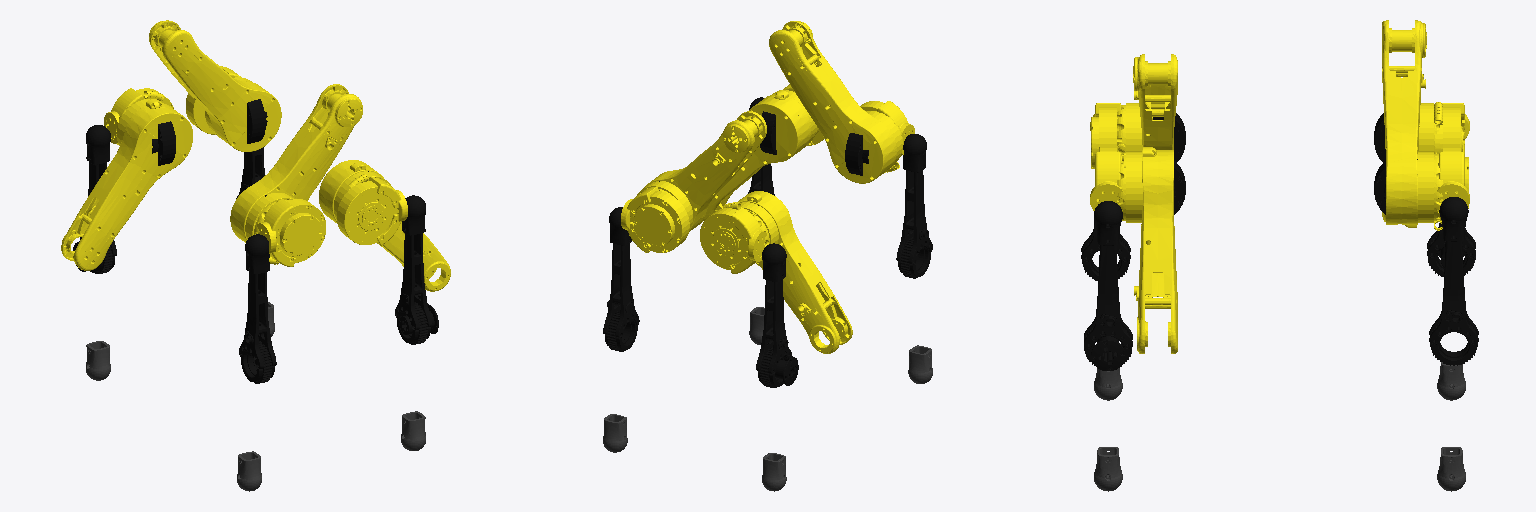
--- Render facts (derived) ---
The picture shows the robot from 3 angles, left to right: view 1: azimuth 30°, elevation 25°; view 2: azimuth 150°, elevation 25°; view 3: azimuth 270°, elevation 25°; orthographic projection.
Model quadruped_robot with 22 links and 21 joints (12 revolute, 9 fixed), rooted at trunk, posed all joints at 0.
Links seen in each view (by area): view 1: right_back_thigh, right_forward_thigh, left_back_thigh, left_forward_calf, right_forward_calf, left_forward_hip, right_forward_hip, left_forward_thigh, right_back_calf, right_back_hip, left_forward_foot, right_back_foot (+5 smaller); view 2: right_forward_thigh, right_back_thigh, left_back_thigh, left_forward_thigh, right_back_calf, right_forward_calf, left_back_hip, right_back_hip, left_back_calf, left_back_foot, right_back_foot, right_forward_foot (+3 smaller); view 3: left_back_thigh, left_forward_thigh, left_forward_calf, right_forward_thigh, left_back_calf, left_back_hip, left_forward_hip, right_back_hip, right_forward_hip, right_back_calf, left_forward_foot, left_back_foot (+4 smaller).
Boxes of the visible links, left/top/right/bottom form: right_back_thigh: left=61, top=91, right=192, bottom=270; right_forward_thigh: left=230, top=84, right=362, bottom=264; left_back_thigh: left=149, top=20, right=281, bottom=151; left_forward_calf: left=395, top=195, right=438, bottom=344; right_forward_calf: left=239, top=234, right=276, bottom=383; left_forward_hip: left=337, top=177, right=407, bottom=245; right_forward_hip: left=257, top=199, right=325, bottom=266; left_forward_thigh: left=319, top=160, right=450, bottom=291; right_back_calf: left=73, top=125, right=116, bottom=273; right_back_hip: left=104, top=88, right=173, bottom=144; left_forward_foot: left=401, top=411, right=425, bottom=450; right_back_foot: left=86, top=341, right=110, bottom=380; right_forward_thigh: left=769, top=21, right=902, bottom=183; right_back_thigh: left=722, top=191, right=852, bottom=353; left_back_thigh: left=637, top=111, right=766, bottom=231; left_forward_thigh: left=702, top=90, right=816, bottom=221; right_back_calf: left=756, top=243, right=798, bottom=387; right_forward_calf: left=896, top=134, right=932, bottom=278; left_back_hip: left=621, top=187, right=689, bottom=252; right_back_hip: left=700, top=208, right=766, bottom=273; left_back_calf: left=603, top=207, right=639, bottom=351; left_back_foot: left=603, top=414, right=627, bottom=452; right_back_foot: left=762, top=453, right=786, bottom=491; right_forward_foot: left=908, top=345, right=932, bottom=383; left_back_thigh: left=1382, top=20, right=1442, bottom=230; left_forward_thigh: left=1117, top=144, right=1177, bottom=353; left_forward_calf: left=1084, top=201, right=1132, bottom=370; right_forward_thigh: left=1117, top=54, right=1177, bottom=151; left_back_calf: left=1429, top=197, right=1478, bottom=365; left_back_hip: left=1437, top=147, right=1469, bottom=220; left_forward_hip: left=1090, top=147, right=1122, bottom=210; right_back_hip: left=1435, top=103, right=1469, bottom=153; right_forward_hip: left=1090, top=103, right=1120, bottom=168; right_back_calf: left=1427, top=223, right=1475, bottom=276; left_forward_foot: left=1094, top=447, right=1122, bottom=491; left_back_foot: left=1437, top=447, right=1465, bottom=491.
Size in the robot's own frame: 0.4809 by 0.5439 by 0.6122 metres.
Meshes: 11 distinct files referenced, 20 mesh visuals loaded (10 binary STL); not drawn: 1 (reference not matched to a file when rendering).

robot.urdf — quadruped_robot:
<?xml version="1.0" encoding="utf-8"?>
<!-- =================================================================================== -->
<!-- |    This document was autogenerated by xacro from quadruped_control.urdf         | -->
<!-- |    EDITING THIS FILE BY HAND IS NOT RECOMMENDED                                 | -->
<!-- =================================================================================== -->
<robot name="quadruped_robot">
  <!-- IMU -->
  <gazebo reference="imu_link">
    <gravity>true</gravity>
    <sensor name="imu_sensor" type="imu">
      <always_on>true</always_on>
      <update_rate>1000</update_rate>
      <visualize>true</visualize>
      <topic>__default_topic__</topic>
      <plugin filename="libgazebo_ros_imu_sensor.so" name="imu_plugin">
        <topicName>trunk_imu</topicName>
        <bodyName>imu_link</bodyName>
        <updateRateHZ>1000.0</updateRateHZ>
        <gaussianNoise>0.0</gaussianNoise>
        <xyzOffset>0 0 0</xyzOffset>
        <rpyOffset>0 0 0</rpyOffset>
        <frameName>imu_link</frameName>
      </plugin>
      <pose>0 0 0 0 0 0</pose>
    </sensor>
  </gazebo>
  <!-- Foot contacts. -->
  <gazebo reference="right_forward_calf">
    <sensor name="FR_foot_contact" type="contact">
      <update_rate>100</update_rate>
      <plugin filename="libunitreeFootContactPlugin.so" name="contactPlugin"/>
      <contact>
        <collision>FR_calf_fixed_joint_lump__FR_foot_collision_1</collision>
      </contact>
    </sensor>
  </gazebo>
  <gazebo reference="left_forward_calf">
    <sensor name="FL_foot_contact" type="contact">
      <update_rate>100</update_rate>
      <plugin filename="libunitreeFootContactPlugin.so" name="contactPlugin"/>
      <contact>
        <collision>FL_calf_fixed_joint_lump__FL_foot_collision_1</collision>
      </contact>
    </sensor>
  </gazebo>
  <gazebo reference="right_back_calf">
    <sensor name="RR_foot_contact" type="contact">
      <update_rate>100</update_rate>
      <plugin filename="libunitreeFootContactPlugin.so" name="contactPlugin"/>
      <contact>
        <collision>RR_calf_fixed_joint_lump__RR_foot_collision_1</collision>
      </contact>
    </sensor>
  </gazebo>
  <gazebo reference="left_back_calf">
    <sensor name="RL_foot_contact" type="contact">
      <update_rate>100</update_rate>
      <plugin filename="libunitreeFootContactPlugin.so" name="contactPlugin"/>
      <contact>
        <collision>RL_calf_fixed_joint_lump__RL_foot_collision_1</collision>
      </contact>
    </sensor>
  </gazebo>
  <!-- Visualization of Foot contacts. -->
  <gazebo reference="right_forward_foot">
    <visual>
      <plugin filename="libunitreeDrawForcePlugin.so" name="drawForcePlugin">
        <topicName>FR_foot_contact</topicName>
      </plugin>
    </visual>
  </gazebo>
  <gazebo reference="left_forward_foot">
    <visual>
      <plugin filename="libunitreeDrawForcePlugin.so" name="drawForcePlugin">
        <topicName>FL_foot_contact</topicName>
      </plugin>
    </visual>
  </gazebo>
  <gazebo reference="right_back_foot">
    <visual>
      <plugin filename="libunitreeDrawForcePlugin.so" name="drawForcePlugin">
        <topicName>RR_foot_contact</topicName>
      </plugin>
    </visual>
  </gazebo>
  <gazebo reference="left_back_foot">
    <visual>
      <plugin filename="libunitreeDrawForcePlugin.so" name="drawForcePlugin">
        <topicName>RL_foot_contact</topicName>
      </plugin>
    </visual>
  </gazebo>
  <gazebo reference="base">
    <material>Gazebo/Green</material>
    <turnGravityOff>false</turnGravityOff>
  </gazebo>
  <gazebo reference="trunk">
    <!-- Friction coefficients μ for the principal contact directions along the contact surface -->
    <mu1>0.2</mu1>
    <mu2>0.2</mu2>
    <!-- Contact stiffness k_p and damping k_d for rigid body contacts -->
    <kp value="1000000.0"/>
    <kd value="1.0"/>
  </gazebo>
  <gazebo reference="stick_link">
    <mu1>0.2</mu1>
    <mu2>0.2</mu2>
    <material>Gazebo/White</material>
  </gazebo>
  <gazebo reference="imu_link">
    <mu1>0.2</mu1>
    <mu2>0.2</mu2>
    <material>Gazebo/Red</material>
  </gazebo>
  <!-- FL leg -->
  <gazebo reference="left_forward_hip">
    <mu1>0.2</mu1>
    <mu2>0.2</mu2>
    <material>Gazebo/DarkGrey</material>
  </gazebo>
  <gazebo reference="left_forward_thigh">
    <mu1>0.2</mu1>
    <mu2>0.2</mu2>
    <self_collide>1</self_collide>
    <material>Gazebo/DarkGrey</material>
    <kp value="1000000.0"/>
    <kd value="1.0"/>
  </gazebo>
  <gazebo reference="left_forward_calf">
    <mu1>0.2</mu1>
    <mu2>0.2</mu2>
    <self_collide>1</self_collide>
  </gazebo>
  <gazebo reference="left_forward_foot">
    <mu1>0.6</mu1>
    <mu2>0.6</mu2>
    <self_collide>1</self_collide>
    <material>Gazebo/DarkGrey</material>
    <kp value="1000000.0"/>
    <kd value="1.0"/>
  </gazebo>
  <!-- FR leg -->
  <gazebo reference="right_forward_hip">
    <mu1>0.2</mu1>
    <mu2>0.2</mu2>
    <material>Gazebo/DarkGrey</material>
  </gazebo>
  <gazebo reference="right_forward_thigh">
    <mu1>0.2</mu1>
    <mu2>0.2</mu2>
    <self_collide>1</self_collide>
    <material>Gazebo/DarkGrey</material>
    <kp value="1000000.0"/>
    <kd value="1.0"/>
  </gazebo>
  <gazebo reference="right_forward_calf">
    <mu1>0.2</mu1>
    <mu2>0.2</mu2>
    <self_collide>1</self_collide>
  </gazebo>
  <gazebo reference="right_forward_foot">
    <mu1>0.6</mu1>
    <mu2>0.6</mu2>
    <self_collide>1</self_collide>
    <material>Gazebo/DarkGrey</material>
    <kp value="1000000.0"/>
    <kd value="1.0"/>
  </gazebo>
  <!-- RL leg -->
  <gazebo reference="left_back_hip">
    <mu1>0.2</mu1>
    <mu2>0.2</mu2>
    <material>Gazebo/DarkGrey</material>
  </gazebo>
  <gazebo reference="left_back_thigh">
    <mu1>0.2</mu1>
    <mu2>0.2</mu2>
    <self_collide>1</self_collide>
    <material>Gazebo/DarkGrey</material>
    <kp value="1000000.0"/>
    <kd value="1.0"/>
  </gazebo>
  <gazebo reference="left_back_calf">
    <mu1>0.2</mu1>
    <mu2>0.2</mu2>
    <self_collide>1</self_collide>
  </gazebo>
  <gazebo reference="left_back_foot">
    <mu1>0.6</mu1>
    <mu2>0.6</mu2>
    <self_collide>1</self_collide>
    <material>Gazebo/DarkGrey</material>
    <kp value="1000000.0"/>
    <kd value="1.0"/>
  </gazebo>
  <!-- RR leg -->
  <gazebo reference="right_back_hip">
    <mu1>0.2</mu1>
    <mu2>0.2</mu2>
    <material>Gazebo/DarkGrey</material>
  </gazebo>
  <gazebo reference="right_back_thigh">
    <mu1>0.2</mu1>
    <mu2>0.2</mu2>
    <self_collide>1</self_collide>
    <material>Gazebo/DarkGrey</material>
    <kp value="1000000.0"/>
    <kd value="1.0"/>
  </gazebo>
  <gazebo reference="right_back_calf">
    <mu1>0.2</mu1>
    <mu2>0.2</mu2>
    <self_collide>1</self_collide>
  </gazebo>
  <gazebo reference="right_back_foot">
    <mu1>0.6</mu1>
    <mu2>0.6</mu2>
    <self_collide>1</self_collide>
    <material>Gazebo/DarkGrey</material>
    <kp value="1000000.0"/>
    <kd value="1.0"/>
  </gazebo>
  <!-- LEFT FORWARD MOTOR -->
  <!-- RIGHT BACK MOTOR -->
  <!-- Used for fixing robot to Gazebo 'base_link' -->
  <!-- <link name="world"/>
  <joint name="world_body" type="floating">
    <parent link="world"/>
    <child link="body"/>
    <origin rpy="0 0 0" xyz="0 0 0.45"/>
  </joint> -->
  <link name="trunk">
    <inertial>
      <origin rpy="0 0 0" xyz="0.00595967385992909 0.00347011518192815 0.000128724144476447"/>
      <mass value="0.6"/>
      <inertia ixx="0.0" ixy="0.0" ixz="0.0" iyy="0.0" iyz="0.0" izz="0.0"/>
    </inertial>
    <visual>
      <origin rpy="0 0 0" xyz="0 0 0"/>
      <geometry>
        <mesh filename="package://quadruped_robot/meshes/body.STL"/>
      </geometry>
      <material name="">
        <color rgba="0.117647058823529 0.117647058823529 0.117647058823529 1"/>
      </material>
    </visual>
    <collision>
      <origin rpy="0 0 0" xyz="0 0 0"/>
      <geometry>
        <mesh filename="package://quadruped_robot/meshes/body.STL"/>
      </geometry>
    </collision>
  </link>
  <joint name="imu_joint" type="fixed">
    <parent link="trunk"/>
    <child link="imu_link"/>
    <origin rpy="0 0 0" xyz="0 0 0"/>
  </joint>
  <link name="imu_link">
    <inertial>
      <mass value="0.001"/>
      <origin rpy="0 0 0" xyz="0 0 0"/>
      <inertia ixx="0.0001" ixy="0" ixz="0" iyy="0.0001" iyz="0" izz="0.0001"/>
    </inertial>
    <visual>
      <origin rpy="0 0 0" xyz="0 0 0"/>
      <geometry>
        <box size="0.001 0.001 0.001"/>
      </geometry>
      <material name="red"/>
    </visual>
    <collision>
      <origin rpy="0 0 0" xyz="0 0 0"/>
      <geometry>
        <box size=".001 .001 .001"/>
      </geometry>
    </collision>
  </link>
  <link name="left_forward_motor">
    <inertial>
      <origin rpy="0 0 0" xyz="-2.4016E-06 -0.00012687 -0.01825"/>
      <mass value="1.7"/>
      <inertia ixx="0.0011015" ixy="-2.2115E-20" ixz="-4.7092E-20" iyy="0.0011135" iyz="-7.75E-06" izz="0.0018907"/>
    </inertial>
    <visual>
      <origin rpy="0 0 0" xyz="0 0 0"/>
      <geometry>
        <mesh filename="package://quadruped_robot/meshes/left_forward_motor.STL"/>
      </geometry>
      <material name="">
        <color rgba="0.098039 0.098039 0.098039 1"/>
      </material>
    </visual>
    <collision>
      <origin rpy="0 0 0" xyz="0 0 0"/>
      <geometry>
        <mesh filename="package://quadruped_robot/meshes/left_forward_motor.STL"/>
      </geometry>
    </collision>
  </link>
  <joint name="body_left_forward_motor" type="fixed">
    <origin rpy="1.5708 0 0" xyz="0.065 -0.178 0"/>
    <parent link="trunk"/>
    <child link="left_forward_motor"/>
    <axis xyz="0 0 0"/>
  </joint>
  <link name="left_forward_hip">
    <inertial>
      <origin rpy="0 0 0" xyz="-0.00291689067610592 -0.000123327968837258 -0.00111336451391641"/>
      <mass value="1.15"/>
      <inertia ixx="0.00194402199468823" ixy="-7.74995368724056E-06" ixz="2.20326276361798E-11" iyy="0.00113022776843808" iyz="5.94322688269652E-11" izz="0.00115440199269891"/>
    </inertial>
    <visual>
      <origin rpy="0 0 0" xyz="0 0 0"/>
      <geometry>
        <mesh filename="package://quadruped_robot/meshes/left_forward_leg.STL"/>
      </geometry>
      <material name="">
        <color rgba="1 0.937254901960784 0.137254901960784 1"/>
      </material>
    </visual>
    <collision>
      <origin rpy="0 0 0" xyz="0 0 0"/>
      <geometry>
        <mesh filename="package://quadruped_robot/meshes/left_forward_leg.STL"/>
      </geometry>
    </collision>
  </link>
  <joint name="left_forward_hip_joint" type="revolute">
    <origin rpy="0 0 0" xyz="0 0 0.057"/>
    <parent link="left_forward_motor"/>
    <child link="left_forward_hip"/>
    <axis xyz="0 0 -1"/>
    <limit effort="50" lower="-0.78" upper="0.78" velocity="30"/>
    <!-- <dynamics damping = "0.5" friction = "0.1"/> -->
  </joint>
  <link name="left_forward_thigh">
    <inertial>
      <origin rpy="0 0 0" xyz="-0.000122004696831546 -0.0105068917015962 0.0369232159258762"/>
      <mass value="0.3"/>
      <inertia ixx="0.0025944" ixy="2.612E-05" ixz="4.1998E-06" iyy="0.0012986" iyz="1.2724E-05" izz="0.0035306"/>
    </inertial>
    <visual>
      <origin rpy="0 0 0" xyz="0 0 0"/>
      <geometry>
        <mesh filename="package://quadruped_robot/meshes/left_forward_hip.STL"/>
      </geometry>
      <material name="">
        <color rgba="1 0.937254901960784 0.137254901960784 1"/>
      </material>
    </visual>
    <collision>
      <origin rpy="0 0 0" xyz="0 0 0"/>
      <geometry>
        <mesh filename="package://quadruped_robot/meshes/left_forward_hip.STL"/>
      </geometry>
    </collision>
  </link>
  <joint name="left_forward_thigh_joint" type="revolute">
    <origin rpy="0 1.5708 0" xyz="0.01425 0 0"/>
    <parent link="left_forward_hip"/>
    <child link="left_forward_thigh"/>
    <axis xyz="0 0 -1"/>
    <limit effort="50" lower="-1.31" upper="1.31" velocity="30"/>
    <!-- <dynamics damping = "0.5" friction = "0.1"/> -->
  </joint>
  <link name="left_forward_calf">
    <inertial>
      <origin rpy="0 0 0" xyz="1.33042839911279E-05 0.0735129471212146 1.01143462072351E-05"/>
      <mass value="0.1"/>
      <inertia ixx="0.0" ixy="0.0" ixz="0.0" iyy="0.0" iyz="0.0" izz="0.0"/>
    </inertial>
    <visual>
      <origin rpy="0 0 0" xyz="0 0 0"/>
      <geometry>
        <mesh filename="package://quadruped_robot/meshes/left_forward_calf.STL"/>
      </geometry>
      <material name="">
        <color rgba="0.101960784313725 0.101960784313725 0.101960784313725 1"/>
      </material>
    </visual>
    <collision>
      <origin rpy="0 0 0" xyz="0 0 0"/>
      <geometry>
        <mesh filename="package://quadruped_robot/meshes/left_forward_calf.STL"/>
      </geometry>
    </collision>
  </link>
  <joint name="left_forward_calf_joint" type="revolute">
    <origin rpy="0 0 3.1416" xyz="0 -0.208 0.068"/>
    <parent link="left_forward_thigh"/>
    <child link="left_forward_calf"/>
    <axis xyz="0 0 -1"/>
    <limit effort="50" lower="-2.6" upper="2.6" velocity="30"/>
    <!-- <dynamics damping = "0.5" friction = "0.1"/> -->
  </joint>
  <link name="left_forward_foot">
    <inertial>
      <origin rpy="0 0 0" xyz="2.69840204902838E-07 -0.0143807852672446 -1.27049741839858E-05"/>
      <mass value="0.04"/>
      <!-- <mass
        value="50" /> -->
      <inertia ixx="1.41888786495424E-05" ixy="-2.90568059491003E-10" ixz="-4.06238332327928E-11" iyy="8.65121074865133E-06" iyz="3.97669015260362E-09" izz="1.41178031393142E-05"/>
    </inertial>
    <visual>
      <origin rpy="0 0 0" xyz="0 0 0"/>
      <geometry>
        <mesh filename="package://quadruped_robot/meshes/left_forward_foot.STL"/>
      </geometry>
      <material name="">
        <color rgba="0.298039215686275 0.298039215686275 0.298039215686275 1"/>
      </material>
    </visual>
    <collision>
      <origin rpy="0 0 0" xyz="0 0 0"/>
      <geometry>
        <mesh filename="package://quadruped_robot/meshes/left_forward_foot.STL"/>
      </geometry>
    </collision>
  </link>
  <joint name="left_forward_foot_fixed" type="fixed">
    <origin rpy="0 0 3.1416" xyz="0 0.1775 0"/>
    <parent link="left_forward_calf"/>
    <child link="left_forward_foot"/>
    <axis xyz="0 0 0"/>
  </joint>
  <dynamics friction="1000"/>
  <!-- RIGHT BACK LEG -->
  <link name="right_back_motor">
    <inertial>
      <origin rpy="0 0 0" xyz="-2.4016E-06 -0.00012687 -0.01825"/>
      <mass value="1.7"/>
      <inertia ixx="0.0011015" ixy="-2.2115E-20" ixz="-4.7092E-20" iyy="0.0011135" iyz="-7.75E-06" izz="0.0018907"/>
    </inertial>
    <visual>
      <origin rpy="0 0 0" xyz="0 0 0"/>
      <geometry>
        <mesh filename="package://quadruped_robot/meshes/left_forward_motor.STL"/>
      </geometry>
      <material name="">
        <color rgba="0.098039 0.098039 0.098039 1"/>
      </material>
    </visual>
    <collision>
      <origin rpy="0 0 0" xyz="0 0 0"/>
      <geometry>
        <mesh filename="package://quadruped_robot/meshes/left_forward_motor.STL"/>
      </geometry>
    </collision>
  </link>
  <joint name="body_right_back_motor" type="fixed">
    <origin rpy="1.5708 0 3.1416" xyz="-0.065 0.178 0"/>
    <parent link="trunk"/>
    <child link="right_back_motor"/>
    <axis xyz="0 0 0"/>
  </joint>
  <link name="right_back_hip">
    <inertial>
      <origin rpy="0 0 0" xyz="-0.00291689067610592 -0.000123327968837258 -0.00111336451391641"/>
      <mass value="1.15"/>
      <inertia ixx="0.00194402199468823" ixy="-7.74995368724056E-06" ixz="2.20326276361798E-11" iyy="0.00113022776843808" iyz="5.94322688269652E-11" izz="0.00115440199269891"/>
    </inertial>
    <visual>
      <origin rpy="0 0 0" xyz="0 0 0"/>
      <geometry>
        <mesh filename="package://quadruped_robot/meshes/left_forward_leg.STL"/>
      </geometry>
      <material name="">
        <color rgba="1 0.937254901960784 0.137254901960784 1"/>
      </material>
    </visual>
    <collision>
      <origin rpy="0 0 0" xyz="0 0 0"/>
      <geometry>
        <mesh filename="package://quadruped_robot/meshes/left_forward_leg.STL"/>
      </geometry>
    </collision>
  </link>
  <joint name="right_back_hip_joint" type="revolute">
    <origin rpy="0 0 0" xyz="0 0 0.057"/>
    <parent link="right_back_motor"/>
    <child link="right_back_hip"/>
    <axis xyz="0 0 -1"/>
    <limit effort="50" lower="-0.78" upper="0.78" velocity="30"/>
    <!-- <dynamics damping = "0.5" friction = "0.1"/> -->
  </joint>
  <link name="right_back_thigh">
    <inertial>
      <origin rpy="0 0 0" xyz="-0.000122004696831546 -0.0105068917015962 0.0369232159258762"/>
      <mass value="0.3"/>
      <inertia ixx="0.0025944" ixy="2.612E-05" ixz="4.1998E-06" iyy="0.0012986" iyz="1.2724E-05" izz="0.0035306"/>
    </inertial>
    <visual>
      <origin rpy="0 0 0" xyz="0 0 0"/>
      <geometry>
        <mesh filename="package://quadruped_robot/meshes/left_forward_hip.STL"/>
      </geometry>
      <material name="">
        <color rgba="1 0.937254901960784 0.137254901960784 1"/>
      </material>
    </visual>
    <collision>
      <origin rpy="0 0 0" xyz="0 0 0"/>
      <geometry>
        <mesh filename="package://quadruped_robot/meshes/left_forward_hip.STL"/>
      </geometry>
    </collision>
  </link>
  <joint name="right_back_thigh_joint" type="revolute">
    <origin rpy="0 1.5708 0" xyz="0.01425 0 0"/>
    <parent link="right_back_hip"/>
    <child link="right_back_thigh"/>
    <axis xyz="0 0 -1"/>
    <limit effort="50" lower="-1.31" upper="1.31" velocity="30"/>
    <!-- <dynamics damping = "0.5" friction = "0.1"/> -->
  </joint>
  <link name="right_back_calf">
    <inertial>
      <origin rpy="0 0 0" xyz="1.33042839911279E-05 0.0735129471212146 1.01143462072351E-05"/>
      <mass value="0.1"/>
      <inertia ixx="0.0" ixy="0.0" ixz="0.0" iyy="0.0" iyz="0.0" izz="0.0"/>
    </inertial>
    <visual>
      <origin rpy="0 0 0" xyz="0 0 0"/>
      <geometry>
        <mesh filename="package://quadruped_robot/meshes/left_forward_calf.STL"/>
      </geometry>
      <material name="">
        <color rgba="0.101960784313725 0.101960784313725 0.101960784313725 1"/>
      </material>
    </visual>
    <collision>
      <origin rpy="0 0 0" xyz="0 0 0"/>
      <geometry>
        <mesh filename="package://quadruped_robot/meshes/left_forward_calf.STL"/>
      </geometry>
    </collision>
  </link>
  <joint name="right_back_calf_joint" type="revolute">
    <origin rpy="0 0 3.1416" xyz="0 -0.208 0.068"/>
    <parent link="right_back_thigh"/>
    <child link="right_back_calf"/>
    <axis xyz="0 0 -1"/>
    <limit effort="50" lower="-2.6" upper="2.6" velocity="30"/>
    <!-- <dynamics damping = "0.5" friction = "0.1"/> -->
  </joint>
  <link name="right_back_foot">
    <inertial>
      <origin rpy="0 0 0" xyz="2.69840204902838E-07 -0.0143807852672446 -1.27049741839858E-05"/>
      <mass value="0.04"/>
      <!-- <mass
        value="50" /> -->
      <inertia ixx="1.41888786495424E-05" ixy="-2.90568059491003E-10" ixz="-4.06238332327928E-11" iyy="8.65121074865133E-06" iyz="3.97669015260362E-09" izz="1.41178031393142E-05"/>
    </inertial>
    <visual>
      <origin rpy="0 0 0" xyz="0 0 0"/>
      <geometry>
        <mesh filename="package://quadruped_robot/meshes/left_forward_foot.STL"/>
      </geometry>
      <material name="">
        <color rgba="0.298039215686275 0.298039215686275 0.298039215686275 1"/>
      </material>
    </visual>
    <collision>
      <origin rpy="0 0 0" xyz="0 0 0"/>
      <geometry>
        <mesh filename="package://quadruped_robot/meshes/left_forward_foot.STL"/>
      </geometry>
    </collision>
  </link>
  <joint name="right_back_foot_fixed" type="fixed">
    <origin rpy="0 0 3.1416" xyz="0 0.1775 0"/>
    <parent link="right_back_calf"/>
    <child link="right_back_foot"/>
    <axis xyz="0 0 0"/>
  </joint>
  <dynamics friction="1000"/>
  <!-- LEFT BACK LEG -->
  <link name="left_back_motor">
    <inertial>
      <origin rpy="0 0 0" xyz="2.4016E-06 0.00012687 -0.01825"/>
      <mass value="1.7"/>
      <inertia ixx="0.0011015" ixy="-2.2115E-20" ixz="-4.7092E-20" iyy="0.0011135" iyz="-7.75E-06" izz="0.0018907"/>
    </inertial>
    <visual>
      <origin rpy="0 0 0" xyz="0 0 0"/>
      <geometry>
        <mesh filename="package://quadruped_robot/meshes/left_back_motor.STL"/>
      </geometry>
      <material name="">
        <color rgba="0.098039 0.098039 0.098039 1"/>
      </material>
    </visual>
    <collision>
      <origin rpy="0 0 0" xyz="0 0 0"/>
      <geometry>
        <mesh filename="package://quadruped_robot/meshes/left_back_motor.STL"/>
      </geometry>
    </collision>
  </link>
  <joint name="body_left_back_motor" type="fixed">
    <origin rpy="-1.5707963267949 0 0" xyz="0.065 0.178 0"/>
    <parent link="trunk"/>
    <child link="left_back_motor"/>
    <axis xyz="0 0 0"/>
  </joint>
  <link name="left_back_hip">
    <inertial>
      <origin rpy="0 0 0" xyz="-0.0029169 0.00012334 -0.001118"/>
      <mass value="1.15"/>
      <inertia ixx="0.00194402199468823" ixy="-7.74995368724056E-06" ixz="2.20326276361798E-11" iyy="0.00113022776843808" iyz="5.94322688269652E-11" izz="0.00115440199269891"/>
    </inertial>
    <visual>
      <origin rpy="0 0 0" xyz="0 0 0"/>
      <geometry>
        <mesh filename="package://quadruped_robot/meshes/left_back_leg.STL"/>
      </geometry>
      <material name="">
        <color rgba="1 0.93725 0.13725 1"/>
      </material>
    </visual>
    <collision>
      <origin rpy="0 0 0" xyz="0 0 0"/>
      <geometry>
        <mesh filename="package://quadruped_robot/meshes/left_back_leg.STL"/>
      </geometry>
    </collision>
  </link>
  <joint name="left_back_hip_joint" type="revolute">
    <origin rpy="0 0 0" xyz="0 0 0.057"/>
    <parent link="left_back_motor"/>
    <child link="left_back_hip"/>
    <axis xyz="0 0 -1"/>
    <limit effort="50" lower="-0.78" upper="0.78" velocity="30"/>
    <!-- <dynamics damping = "0.5" friction = "0.1"/> -->
  </joint>
  <link name="left_back_thigh">
    <inertial>
      <origin rpy="0 0 0" xyz="-0.00011894 0.010505 0.036923"/>
      <mass value="0.3"/>
      <inertia ixx="0.0025944" ixy="2.612E-05" ixz="4.1998E-06" iyy="0.0012986" iyz="1.2724E-05" izz="0.0035306"/>
    </inertial>
    <visual>
      <origin rpy="0 0 0" xyz="0 0 0"/>
      <geometry>
        <mesh filename="package://quadruped_robot/meshes/left_back_hip.STL"/>
      </geometry>
      <material name="">
        <color rgba="1 0.93725 0.13725 1"/>
      </material>
    </visual>
    <collision>
      <origin rpy="0 0 0" xyz="0 0 0"/>
      <geometry>
        <mesh filename="package://quadruped_robot/meshes/left_back_hip.STL"/>
      </geometry>
    </collision>
  </link>
  <joint name="left_back_thigh_joint" type="revolute">
    <origin rpy="0 1.5708 0" xyz="0.01425 0 0"/>
    <parent link="left_back_hip"/>
    <child link="left_back_thigh"/>
    <axis xyz="0 0 -1"/>
    <limit effort="50" lower="-1.31" upper="1.31" velocity="30"/>
    <!-- <dynamics damping = "0.5" friction = "0.1"/> -->
  </joint>
  <link name="left_back_calf">
    <inertial>
      <origin rpy="0 0 0" xyz="0.003150209581748 0.0608714249947071 0.0130084906327194"/>
      <mass value="0.1"/>
      <inertia ixx="0.0" ixy="0.0" ixz="0.0" iyy="0.0" iyz="0.0" izz="0.0"/>
    </inertial>
    <visual>
      <origin rpy="0 0 0" xyz="0 0 0"/>
      <geometry>
        <mesh filename="package://quadruped_robot/meshes/left_back_calf.STL"/>
      </geometry>
      <material name="">
        <color rgba="0.101960784313725 0.101960784313725 0.101960784313725 1"/>
      </material>
    </visual>
    <collision>
      <origin rpy="0 0 0" xyz="0 0 0"/>
      <geometry>
        <mesh filename="package://quadruped_robot/meshes/left_back_calf.STL"/>
      </geometry>
    </collision>
  </link>
  <joint name="left_back_calf_joint" type="revolute">
    <origin rpy="0 0 0" xyz="-0.003139 0.20789 0.055"/>
    <parent link="left_back_thigh"/>
    <child link="left_back_calf"/>
    <axis xyz="0 0 -1"/>
    <limit effort="50" lower="-2.6" upper="2.6" velocity="30"/>
    <!-- <dynamics damping = "0.5" friction = "0.1"/> -->
  </joint>
  <link name="left_back_foot">
    <inertial>
      <origin rpy="0 0 0" xyz="2.67734406894649E-07 -0.0143807830353894 -1.27018434094295E-05"/>
      <mass value="0.04"/>
      <!-- <mass
        value="50" /> -->
      <inertia ixx="1.41888786495424E-05" ixy="-2.90568059491003E-10" ixz="-4.06238332327928E-11" iyy="8.65121074865133E-06" iyz="3.97669015260362E-09" izz="1.41178031393142E-05"/>
    </inertial>
    <visual>
      <origin rpy="0 0 0" xyz="0 0 0"/>
      <geometry>
        <mesh filename="package://quadruped_robot/meshes/left_back_foot.STL"/>
      </geometry>
      <material name="">
        <color rgba="0.298039215686275 0.298039215686275 0.298039215686275 1"/>
      </material>
    </visual>
    <collision>
      <origin rpy="0 0 0" xyz="0 0 0"/>
      <geometry>
        <mesh filename="package://quadruped_robot/meshes/left_back_foot.STL"/>
      </geometry>
    </collision>
  </link>
  <joint name="left_back_foot_fixed" type="fixed">
    <origin rpy="0 0 3.1416" xyz="0.003139 0.17761 0.013"/>
    <parent link="left_back_calf"/>
    <child link="left_back_foot"/>
    <axis xyz="0 0 0"/>
    <dynamics friction="1000"/>
  </joint>
  <!-- RIGHT FORWARD LEG -->
  <link name="right_forward_motor">
    <inertial>
      <origin rpy="0 0 0" xyz="2.4016E-06 0.00012687 -0.01825"/>
      <mass value="1.7"/>
      <inertia ixx="0.0011015" ixy="-2.2115E-20" ixz="-4.7092E-20" iyy="0.0011135" iyz="-7.75E-06" izz="0.0018907"/>
    </inertial>
    <visual>
      <origin rpy="0 0 0" xyz="0 0 0"/>
      <geometry>
        <mesh filename="package://quadruped_robot/meshes/left_back_motor.STL"/>
      </geometry>
      <material name="">
        <color rgba="0.098039 0.098039 0.098039 1"/>
      </material>
    </visual>
    <collision>
      <origin rpy="0 0 0" xyz="0 0 0"/>
      <geometry>
        <mesh filename="package://quadruped_robot/meshes/left_back_motor.STL"/>
      </geometry>
    </collision>
  </link>
  <joint name="body_right_forward_motor" type="fixed">
    <origin rpy="-1.5707963267949 0 3.1416" xyz="-0.065 -0.178 0"/>
    <parent link="trunk"/>
    <child link="right_forward_motor"/>
    <axis xyz="0 0 0"/>
  </joint>
  <link name="right_forward_hip">
    <inertial>
      <origin rpy="0 0 0" xyz="-0.0029169 0.00012334 -0.001118"/>
      <mass value="1.15"/>
      <inertia ixx="0.00194402199468823" ixy="-7.74995368724056E-06" ixz="2.20326276361798E-11" iyy="0.00113022776843808" iyz="5.94322688269652E-11" izz="0.00115440199269891"/>
    </inertial>
    <visual>
      <origin rpy="0 0 0" xyz="0 0 0"/>
      <geometry>
        <mesh filename="package://quadruped_robot/meshes/left_back_leg.STL"/>
      </geometry>
      <material name="">
        <color rgba="1 0.93725 0.13725 1"/>
      </material>
    </visual>
    <collision>
      <origin rpy="0 0 0" xyz="0 0 0"/>
      <geometry>
        <mesh filename="package://quadruped_robot/meshes/left_back_leg.STL"/>
      </geometry>
    </collision>
  </link>
  <joint name="right_forward_hip_joint" type="revolute">
    <origin rpy="0 0 0" xyz="0 0 0.057"/>
    <parent link="right_forward_motor"/>
    <child link="right_forward_hip"/>
    <axis xyz="0 0 -1"/>
    <limit effort="50" lower="-0.78" upper="0.78" velocity="30"/>
    <!-- <dynamics damping = "0.5" friction = "0.1"/> -->
  </joint>
  <link name="right_forward_thigh">
    <inertial>
      <origin rpy="0 0 0" xyz="-0.00011894 0.010505 0.036923"/>
      <mass value="0.3"/>
      <inertia ixx="0.0025944" ixy="2.612E-05" ixz="4.1998E-06" iyy="0.0012986" iyz="1.2724E-05" izz="0.0035306"/>
    </inertial>
    <visual>
      <origin rpy="0 0 0" xyz="0 0 0"/>
      <geometry>
        <mesh filename="package://quadruped_robot/meshes/left_back_hip.STL"/>
      </geometry>
      <material name="">
        <color rgba="1 0.93725 0.13725 1"/>
      </material>
    </visual>
    <collision>
      <origin rpy="0 0 0" xyz="0 0 0"/>
      <geometry>
        <mesh filename="package://quadruped_robot/meshes/left_back_hip.STL"/>
      </geometry>
    </collision>
  </link>
  <joint name="right_forward_thigh_joint" type="revolute">
    <origin rpy="0 1.5708 0" xyz="0.01425 0 0"/>
    <parent link="right_forward_hip"/>
    <child link="right_forward_thigh"/>
    <axis xyz="0 0 -1"/>
    <limit effort="50" lower="-1.31" upper="1.31" velocity="30"/>
    <!-- <dynamics damping = "0.5" friction = "0.1"/> -->
  </joint>
  <link name="right_forward_calf">
    <inertial>
      <origin rpy="0 0 0" xyz="0.003150209581748 0.0608714249947071 0.0130084906327194"/>
      <mass value="0.1"/>
      <inertia ixx="0.0" ixy="0.0" ixz="0.0" iyy="0.0" iyz="0.0" izz="0.0"/>
    </inertial>
    <visual>
      <origin rpy="0 0 0" xyz="0 0 0"/>
      <geometry>
        <mesh filename="package://quadruped_robot/meshes/left_back_calf.STL"/>
      </geometry>
      <material name="">
        <color rgba="0.101960784313725 0.101960784313725 0.101960784313725 1"/>
      </material>
    </visual>
    <collision>
      <origin rpy="0 0 0" xyz="0 0 0"/>
      <geometry>
        <mesh filename="package://quadruped_robot/meshes/left_back_calf.STL"/>
      </geometry>
    </collision>
  </link>
  <joint name="right_forward_calf_joint" type="revolute">
    <origin rpy="0 0 0" xyz="-0.003139 0.20789 0.055"/>
    <parent link="right_forward_thigh"/>
    <child link="right_forward_calf"/>
    <axis xyz="0 0 -1"/>
    <limit effort="50" lower="-2.6" upper="2.6" velocity="30"/>
    <!-- <dynamics damping = "0.5" friction = "0.1"/> -->
  </joint>
  <link name="right_forward_foot">
    <inertial>
      <origin rpy="0 0 0" xyz="2.67734406894649E-07 -0.0143807830353894 -1.27018434094295E-05"/>
      <mass value="0.04"/>
      <!-- <mass
        value="50" /> -->
      <inertia ixx="1.41888786495424E-05" ixy="-2.90568059491003E-10" ixz="-4.06238332327928E-11" iyy="8.65121074865133E-06" iyz="3.97669015260362E-09" izz="1.41178031393142E-05"/>
    </inertial>
    <visual>
      <origin rpy="0 0 0" xyz="0 0 0"/>
      <geometry>
        <mesh filename="package://quadruped_robot/meshes/left_back_foot.STL"/>
      </geometry>
      <material name="">
        <color rgba="0.298039215686275 0.298039215686275 0.298039215686275 1"/>
      </material>
    </visual>
    <collision>
      <origin rpy="0 0 0" xyz="0 0 0"/>
      <geometry>
        <mesh filename="package://quadruped_robot/meshes/left_back_foot.STL"/>
      </geometry>
    </collision>
  </link>
  <joint name="right_forward_foot_fixed" type="fixed">
    <origin rpy="0 0 3.1416" xyz="0.003139 0.17761 0.013"/>
    <parent link="right_forward_calf"/>
    <child link="right_forward_foot"/>
    <axis xyz="0 0 0"/>
    <dynamics friction="1000"/>
  </joint>
  <transmission name="tran0">
    <type>transmission_interface/SimpleTransmission</type>
    <joint name="right_forward_hip_joint">
      <hardwareInterface>hardware_interface/EffortJointInterface</hardwareInterface>
    </joint>
    <actuator name="FR_hip_motor">
      <hardwareInterface>hardware_interface/EffortJointInterface</hardwareInterface>
      <!--hardware_interface/-->
      <mechanicalReduction>9</mechanicalReduction>
    </actuator>
  </transmission>
  <transmission name="tran1">
    <type>transmission_interface/SimpleTransmission</type>
    <joint name="right_forward_thigh_joint">
      <hardwareInterface>hardware_interface/EffortJointInterface</hardwareInterface>
    </joint>
    <actuator name="FR_thigh_motor">
      <hardwareInterface>hardware_interface/EffortJointInterface</hardwareInterface>
      <!--hardware_interface/-->
      <mechanicalReduction>9</mechanicalReduction>
    </actuator>
  </transmission>
  <transmission name="tran2">
    <type>transmission_interface/SimpleTransmission</type>
    <joint name="right_forward_calf_joint">
      <hardwareInterface>hardware_interface/EffortJointInterface</hardwareInterface>
    </joint>
    <actuator name="FR_calf_motor">
      <hardwareInterface>hardware_interface/EffortJointInterface</hardwareInterface>
      <!--hardware_interface/-->
      <mechanicalReduction>6</mechanicalReduction>
    </actuator>
  </transmission>
  <transmission name="tran3">
    <type>transmission_interface/SimpleTransmission</type>
    <joint name="left_forward_hip_joint">
      <hardwareInterface>hardware_interface/EffortJointInterface</hardwareInterface>
    </joint>
    <actuator name="FL_hip_motor">
      <hardwareInterface>hardware_interface/EffortJointInterface</hardwareInterface>
      <!--hardware_interface/-->
      <mechanicalReduction>9</mechanicalReduction>
    </actuator>
  </transmission>
  <transmission name="tran4">
    <type>transmission_interface/SimpleTransmission</type>
    <joint name="left_forward_thigh_joint">
      <hardwareInterface>hardware_interface/EffortJointInterface</hardwareInterface>
    </joint>
    <actuator name="FL_thigh_motor">
      <hardwareInterface>hardware_interface/EffortJointInterface</hardwareInterface>
      <!--hardware_interface/-->
      <mechanicalReduction>9</mechanicalReduction>
    </actuator>
  </transmission>
  <transmission name="tran5">
    <type>transmission_interface/SimpleTransmission</type>
    <joint name="left_forward_calf_joint">
      <hardwareInterface>hardware_interface/EffortJointInterface</hardwareInterface>
    </joint>
    <actuator name="FL_calf_motor">
      <hardwareInterface>hardware_interface/EffortJointInterface</hardwareInterface>
      <!--hardware_interface/-->
      <mechanicalReduction>6</mechanicalReduction>
    </actuator>
  </transmission>
  <transmission name="tran6">
    <type>transmission_interface/SimpleTransmission</type>
    <joint name="right_back_hip_joint">
      <hardwareInterface>hardware_interface/EffortJointInterface</hardwareInterface>
    </joint>
    <actuator name="RR_hip_motor">
      <hardwareInterface>hardware_interface/EffortJointInterface</hardwareInterface>
      <!--hardware_interface/-->
      <mechanicalReduction>9</mechanicalReduction>
    </actuator>
  </transmission>
  <transmission name="tran7">
    <type>transmission_interface/SimpleTransmission</type>
    <joint name="right_back_thigh_joint">
      <hardwareInterface>hardware_interface/EffortJointInterface</hardwareInterface>
    </joint>
    <actuator name="RR_thigh_motor">
      <hardwareInterface>hardware_interface/EffortJointInterface</hardwareInterface>
      <!--hardware_interface/-->
      <mechanicalReduction>9</mechanicalReduction>
    </actuator>
  </transmission>
  <transmission name="tran8">
    <type>transmission_interface/SimpleTransmission</type>
    <joint name="right_back_calf_joint">
      <hardwareInterface>hardware_interface/EffortJointInterface</hardwareInterface>
    </joint>
    <actuator name="RR_calf_motor">
      <hardwareInterface>hardware_interface/EffortJointInterface</hardwareInterface>
      <!--hardware_interface/-->
      <mechanicalReduction>6</mechanicalReduction>
    </actuator>
  </transmission>
  <transmission name="tran9">
    <type>transmission_interface/SimpleTransmission</type>
    <joint name="left_back_hip_joint">
      <hardwareInterface>hardware_interface/EffortJointInterface</hardwareInterface>
    </joint>
    <actuator name="RL_hip_motor">
      <hardwareInterface>hardware_interface/EffortJointInterface</hardwareInterface>
      <!--hardware_interface/-->
      <mechanicalReduction>9</mechanicalReduction>
    </actuator>
  </transmission>
  <transmission name="tran10">
    <type>transmission_interface/SimpleTransmission</type>
    <joint name="left_back_thigh_joint">
      <hardwareInterface>hardware_interface/EffortJointInterface</hardwareInterface>
    </joint>
    <actuator name="RL_thigh_motor">
      <hardwareInterface>hardware_interface/EffortJointInterface</hardwareInterface>
      <!--hardware_interface/-->
      <mechanicalReduction>9</mechanicalReduction>
    </actuator>
  </transmission>
  <transmission name="tran11">
    <type>transmission_interface/SimpleTransmission</type>
    <joint name="left_back_calf_joint">
      <hardwareInterface>hardware_interface/EffortJointInterface</hardwareInterface>
    </joint>
    <actuator name="RL_calf_motor">
      <hardwareInterface>hardware_interface/EffortJointInterface</hardwareInterface>
      <!--hardware_interface/-->
      <mechanicalReduction>6</mechanicalReduction>
    </actuator>
  </transmission>
  <gazebo reference="RL_hip">
    <material>Gazebo/DarkGrey</material>
  </gazebo>
  <!-- <gazebo reference="FR_hip">
    <material>Gazebo/DarkGrey</material>
  </gazebo> -->
  <gazebo reference="RR_hip">
    <material>Gazebo/DarkGrey</material>
  </gazebo>
  <!-- <gazebo reference="FL_hip">
    <material>Gazebo/DarkGrey</material>
  </gazebo> -->
  <gazebo>
    <plugin filename="libgazebo_ros_control.so" name="gazebo_ros_control">
      <robotNamespace>/quadruped</robotNamespace>
    </plugin>
  </gazebo>
</robot>
